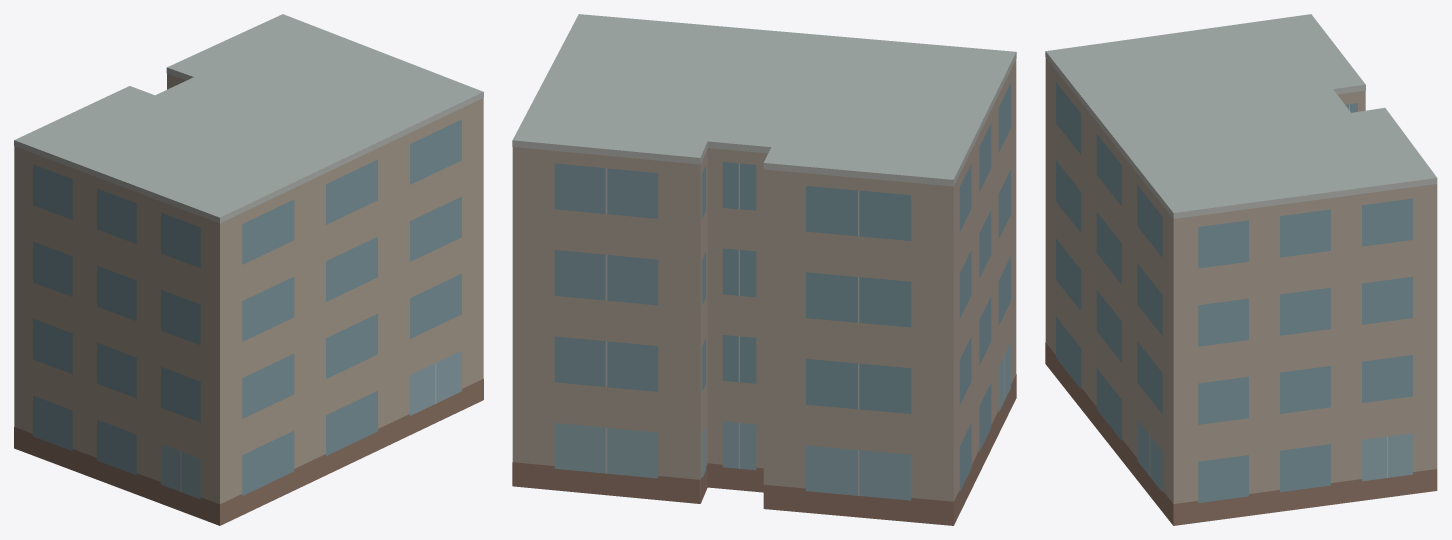
File: survey-upis-32727509.glb
The picture shows the model from 3 angles, left to right: view 1: azimuth 30°, elevation 25°; view 2: azimuth 150°, elevation 25°; view 3: azimuth 270°, elevation 25°; orthographic projection. The views are drawn at different scales.
Visible parts, largest first — view 1: survey-upis-32727509.tmp; view 2: survey-upis-32727509.tmp; view 3: survey-upis-32727509.tmp.
Boxes of the visible parts, left/top/right/bottom form: survey-upis-32727509.tmp: left=14, top=14, right=483, bottom=525; survey-upis-32727509.tmp: left=512, top=14, right=1016, bottom=525; survey-upis-32727509.tmp: left=1045, top=14, right=1437, bottom=525.
Bounding box in the file's own units: 17.47 × 12.8 × 14.54.
